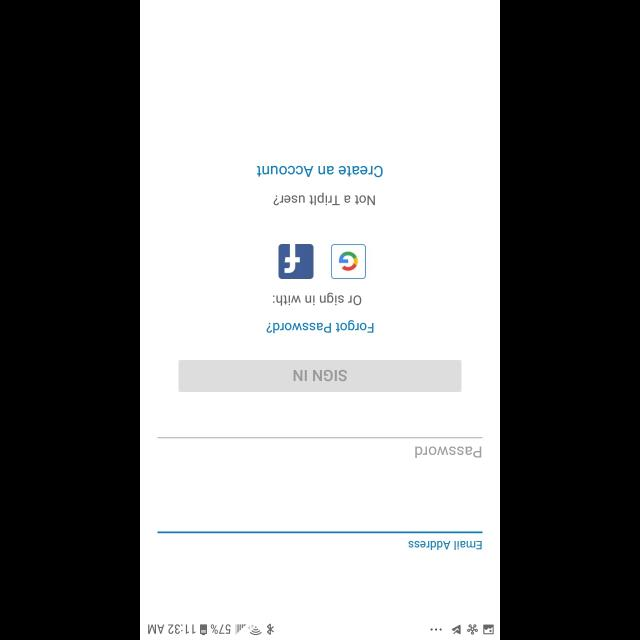icon: (278, 244, 314, 278), (330, 244, 366, 278)
input: (158, 437, 482, 458), (158, 530, 482, 550)
text: (257, 166, 383, 178), (266, 319, 374, 333), (273, 192, 375, 206), (272, 292, 362, 306), (414, 446, 482, 458), (408, 540, 482, 550)
textbutton: (178, 360, 462, 392)
uppertaskbar: (140, 623, 500, 639)
